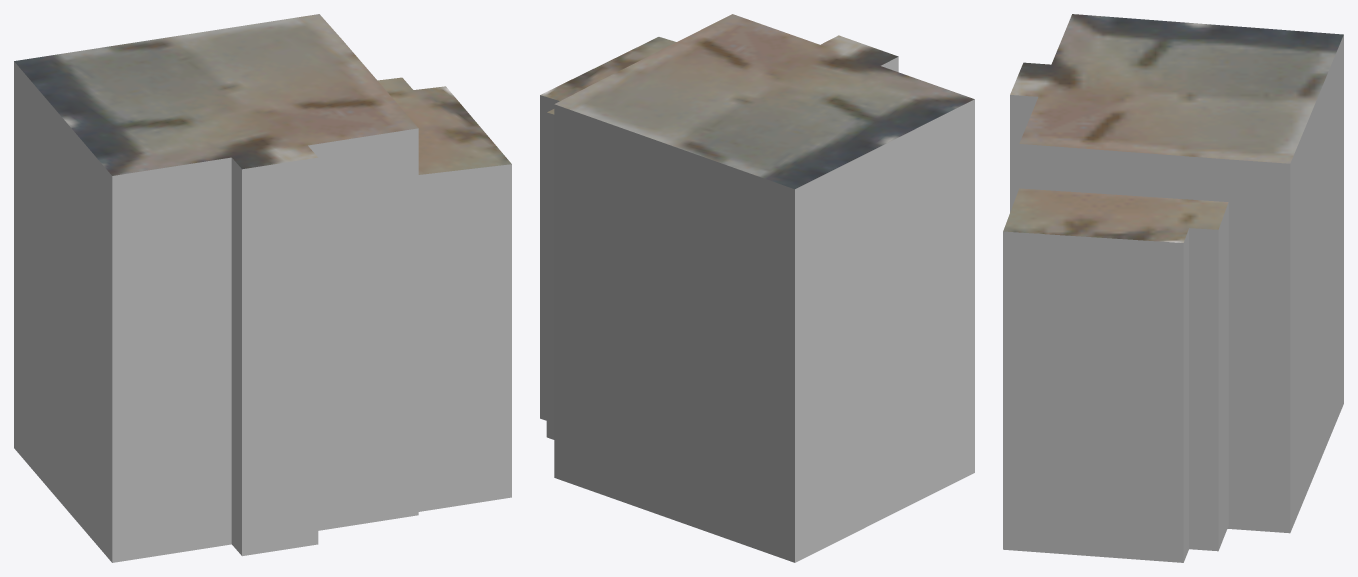
File: DEBW_0010007TxaQ.gltf
3 views of the same model, side by side, from view 1: azimuth 30°, elevation 25°; view 2: azimuth 150°, elevation 25°; view 3: azimuth 270°, elevation 25° (orthographic). The views are drawn at different scales.
Parts seen in each view (by area): view 1: Z_UP; view 2: Z_UP; view 3: Z_UP.
Boxes of the visible parts, left/top/right/bottom form: Z_UP: left=14, top=14, right=511, bottom=562; Z_UP: left=540, top=14, right=974, bottom=562; Z_UP: left=1003, top=14, right=1343, bottom=562.
Bounding box in the file's own units: 18.07 × 17.05 × 14.25.
2 materials, 1 textured.
